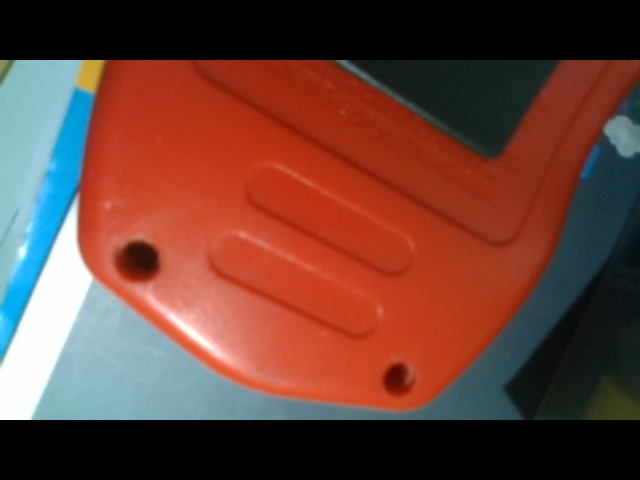Screw holes: (111, 236, 161, 288), (383, 359, 417, 400)
